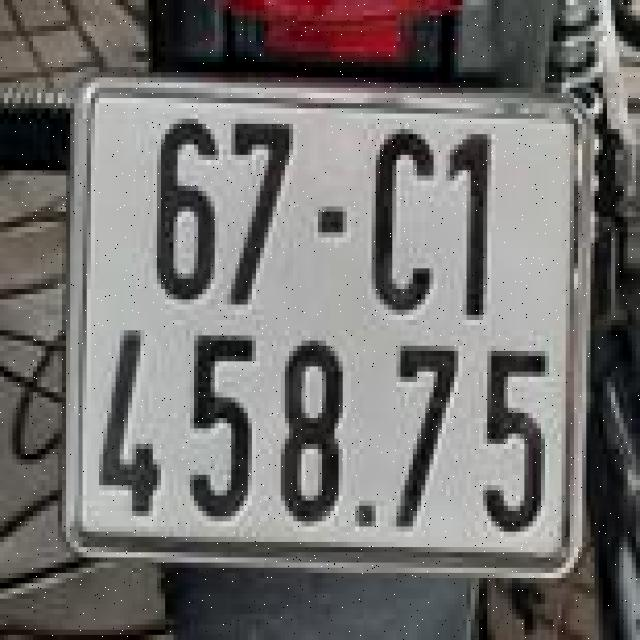1: (444, 116, 506, 343)
4: (101, 312, 163, 529)
5: (176, 309, 262, 536), (475, 333, 561, 550)
6: (124, 108, 231, 304)
7: (378, 322, 464, 550), (221, 114, 299, 320)
8: (274, 325, 344, 521)
C: (364, 108, 454, 326)
